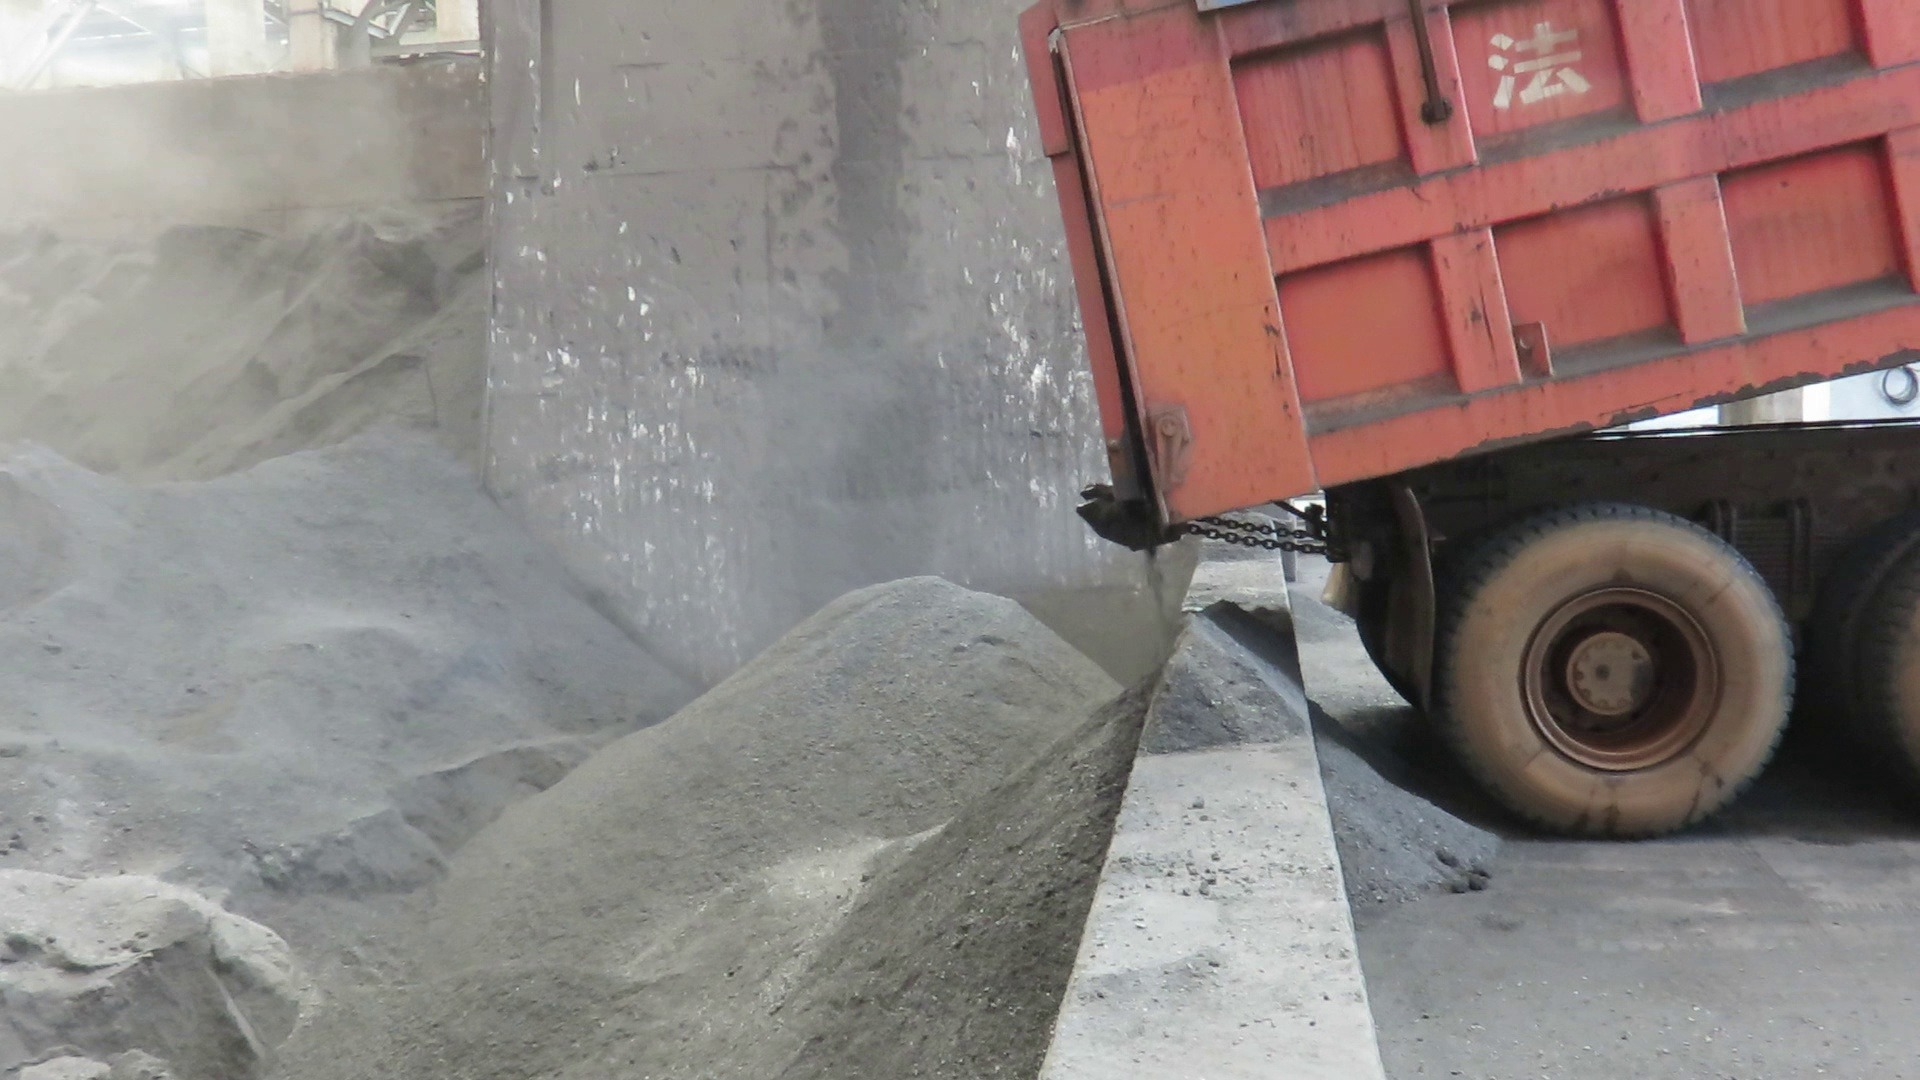dust: (4, 25, 1081, 814)
truck: (969, 0, 1920, 862)
